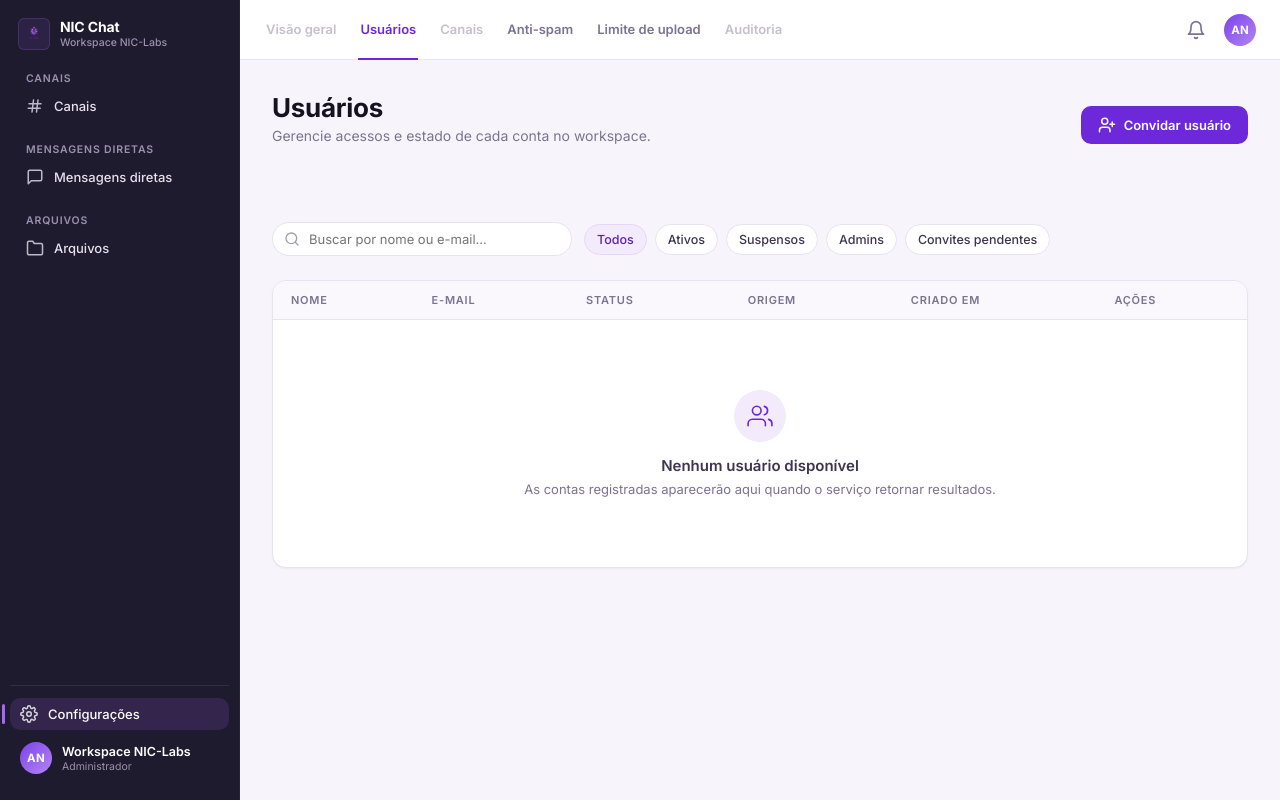
Test case: AdminUsersPage — invite button › opens the invite dialog on click
The image size is (1280, 800).
Click the button "Convidar usuário": click(1164, 125) [1081,106,1248,144]
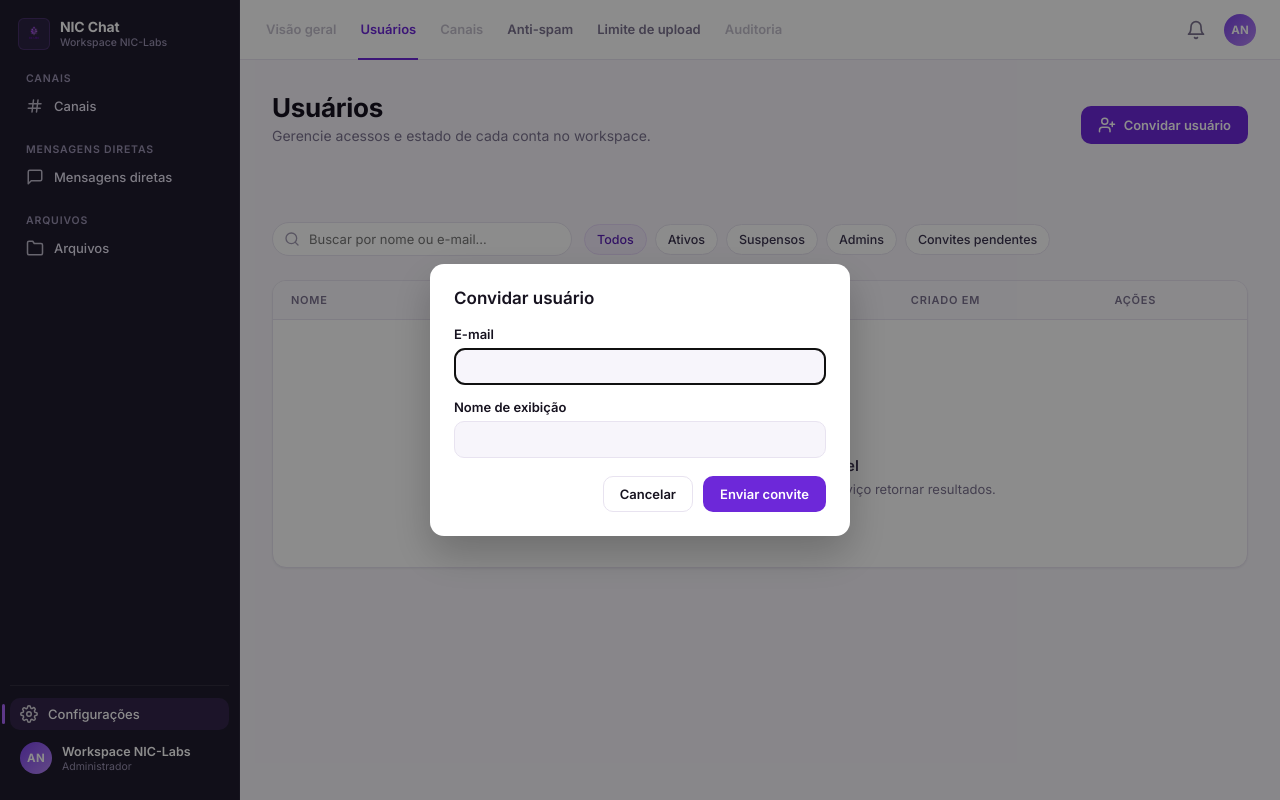
Check: the field labelled "E-mail" is shown, box [454,348,826,385]
Check: the field labelled "Nome de exibição" is shown, box [454,421,826,458]
